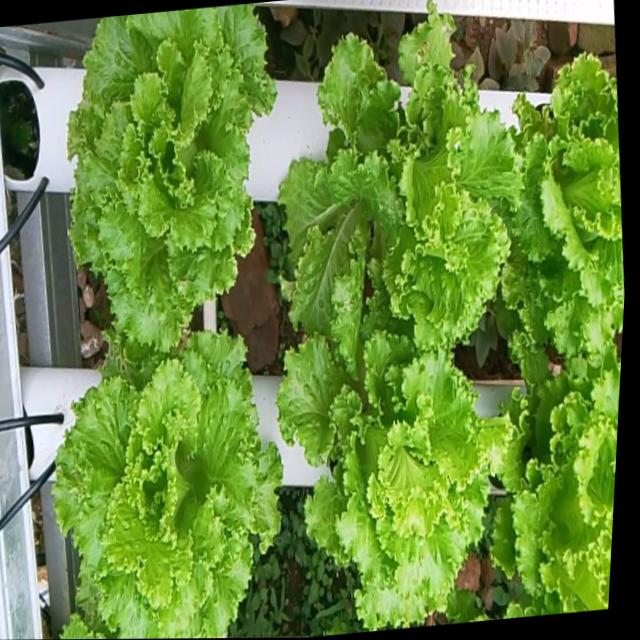Mature: (283, 14, 525, 343), (72, 4, 279, 362), (282, 310, 506, 630), (57, 335, 288, 639), (509, 52, 624, 355), (498, 347, 622, 615)
